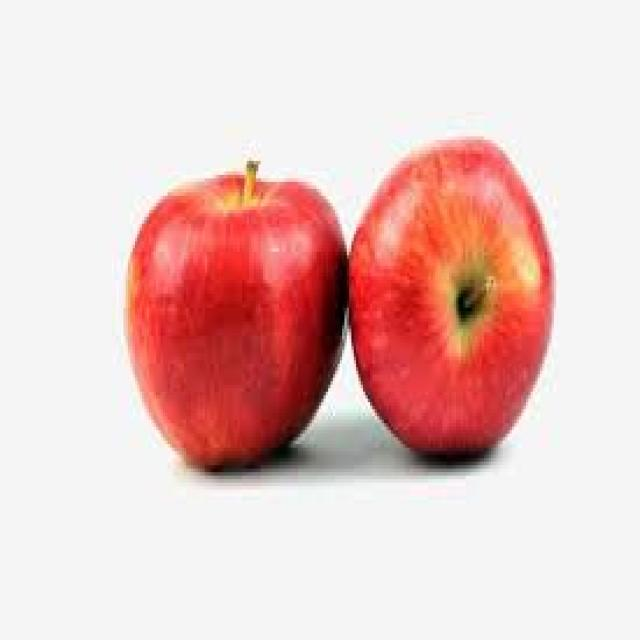non_orange: (332, 105, 567, 514), (99, 126, 372, 475)
